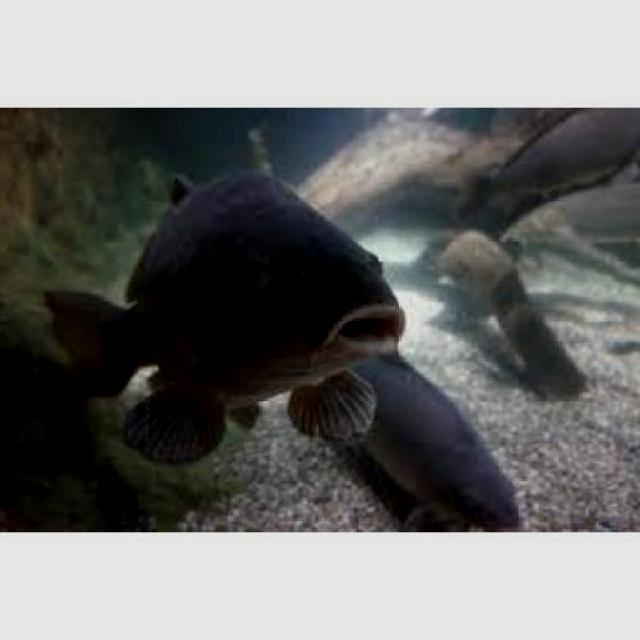ikan-mas: (80, 162, 412, 448)
